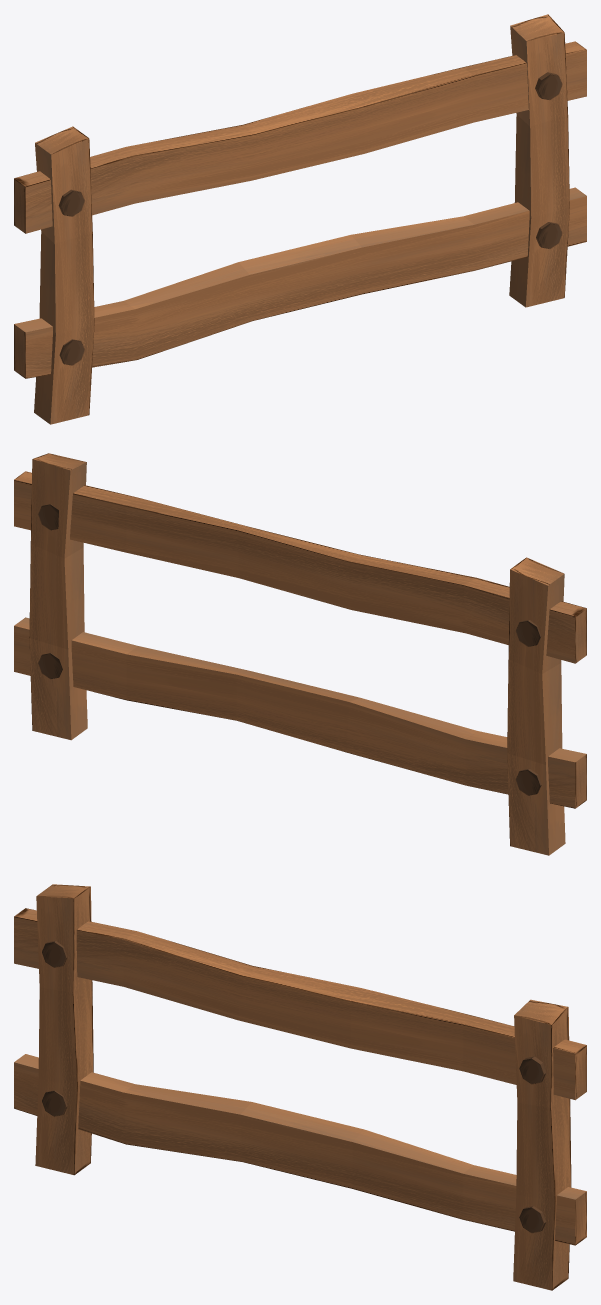
The model's file is wood-fence.fbx.
The picture shows the model from 3 angles, top to bottom: view 1: azimuth 30°, elevation 25°; view 2: azimuth 150°, elevation 25°; view 3: azimuth 330°, elevation 25°; orthographic projection.
Parts seen in each view (by area): view 1: palang.01, palang.002, pilar.005, pilar.001, Cylinder.002, Cylinder.003, Cylinder; view 2: palang.002, palang.01, pilar.005, pilar.001, Cylinder.001, Cylinder; view 3: palang.01, palang.002, pilar.005, pilar.001, Cylinder.002, Cylinder.003, Cylinder.
Part boxes in pixels (x1,y1,x2,y2): palang.01: [14, 187, 586, 378]; palang.002: [14, 41, 586, 233]; pilar.005: [34, 126, 94, 424]; pilar.001: [509, 14, 569, 307]; Cylinder.002: [535, 72, 562, 100]; Cylinder.003: [536, 222, 562, 249]; Cylinder: [58, 189, 84, 216]; palang.002: [14, 471, 586, 663]; palang.01: [14, 617, 586, 808]; pilar.005: [507, 557, 565, 855]; pilar.001: [29, 453, 87, 740]; Cylinder.001: [515, 768, 541, 795]; Cylinder: [515, 620, 541, 646]; palang.01: [14, 1054, 586, 1245]; palang.002: [14, 908, 586, 1100]; pilar.005: [35, 884, 93, 1175]; pilar.001: [513, 999, 571, 1290]; Cylinder.002: [519, 1056, 545, 1084]; Cylinder.003: [519, 1206, 546, 1233]; Cylinder: [42, 941, 67, 967].
Size of the model in its own units: 1291 by 608 by 79.31.
2 materials, 2 textured.
